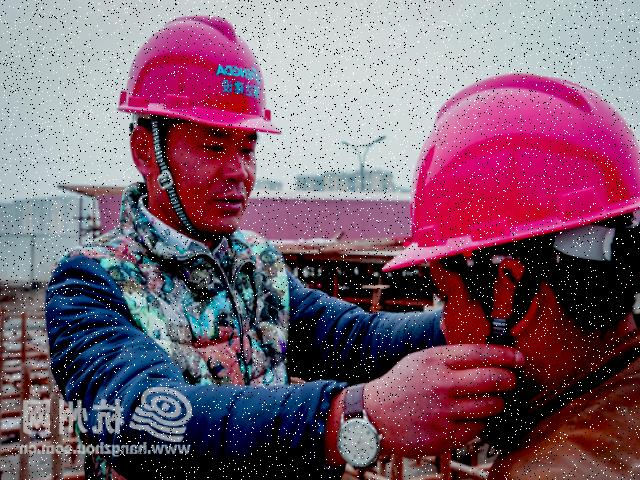Helmet: (381, 68, 640, 274), (115, 11, 289, 145)
